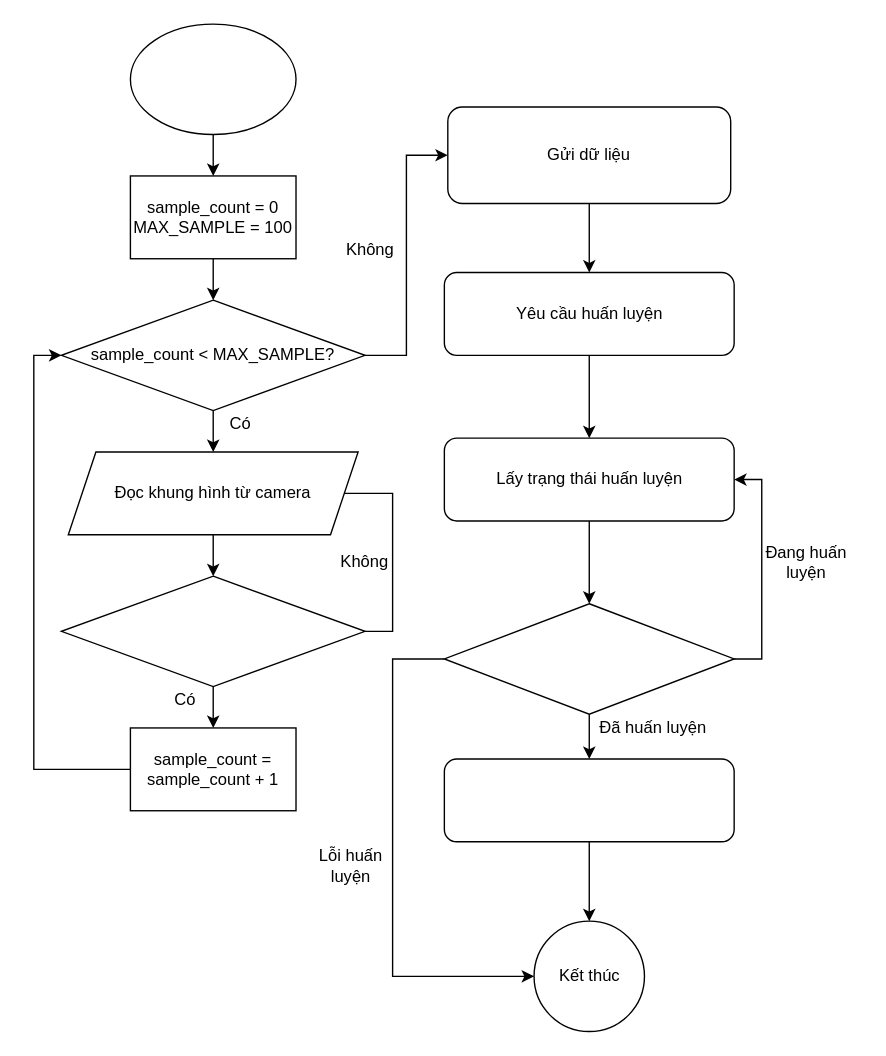
Some shapes in this 886 by 1056 pixel diagram are drawn without their labels. Each missing label, with the box of its shape:
Bắt đầu: (129, 23, 296, 135)
Khuôn mặt có trong camera ?: (60, 575, 365, 687)
Kiểm tra trạng thái huấn luyện: (443, 602, 734, 714)
Tải mô hình về rồi cập nhật lại mô hình hiện tại: (443, 758, 734, 842)
